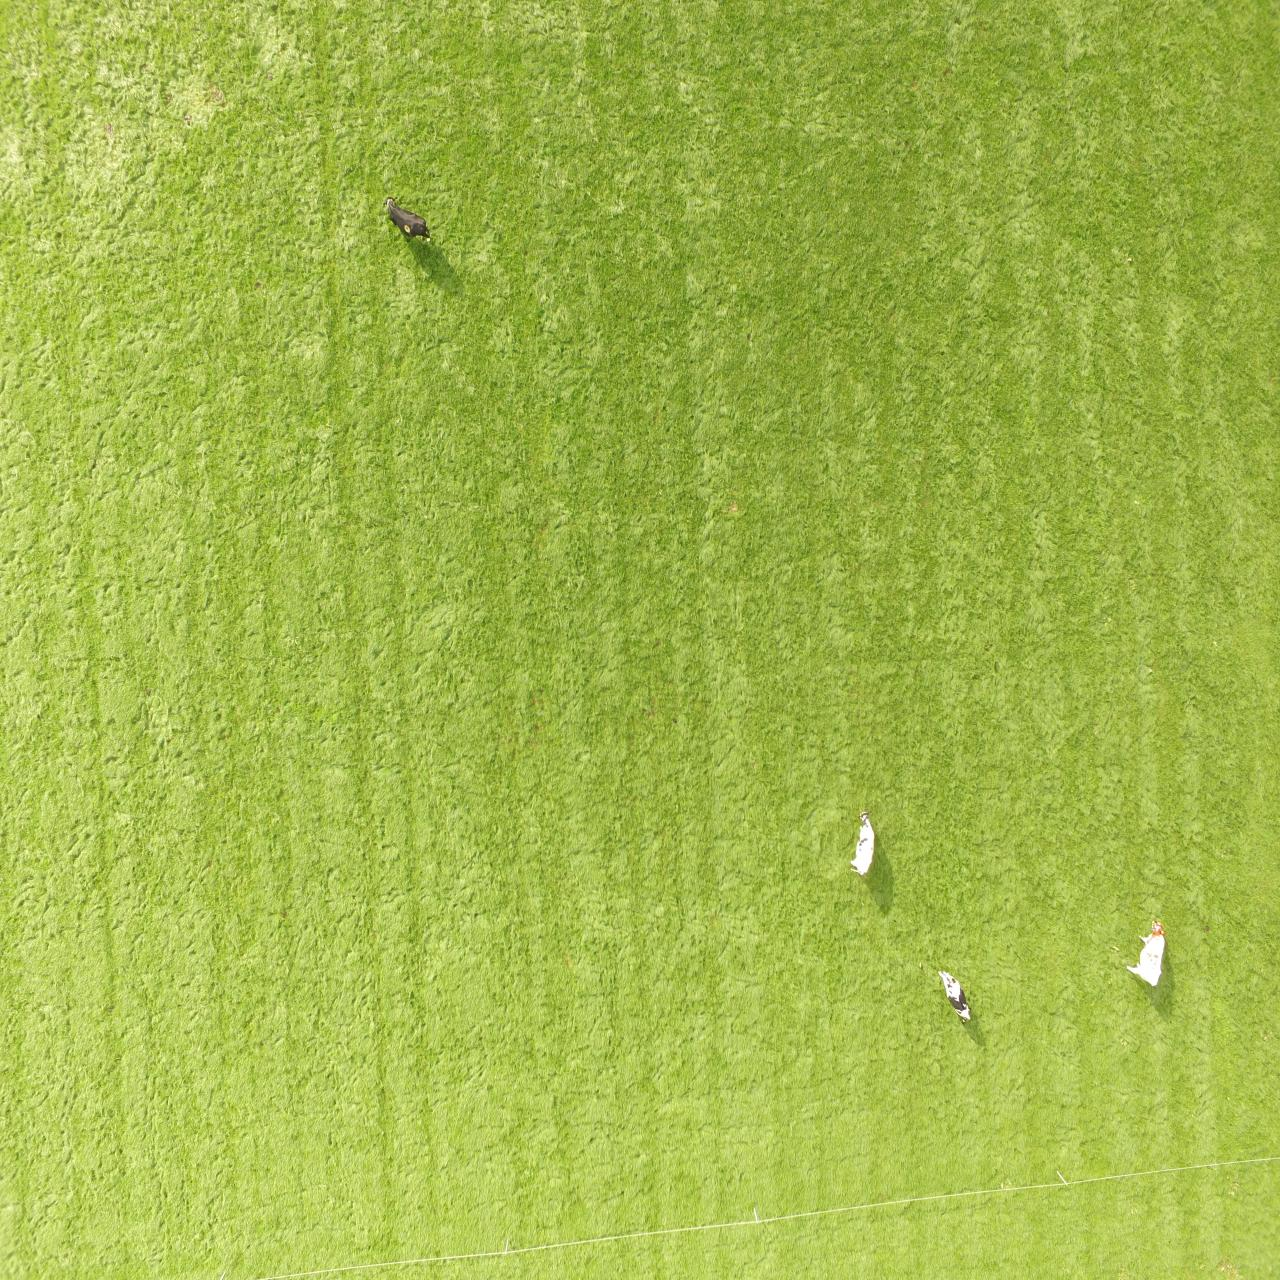cow: (1123, 915, 1169, 992), (381, 192, 434, 248), (934, 966, 974, 1027), (846, 806, 878, 881)
